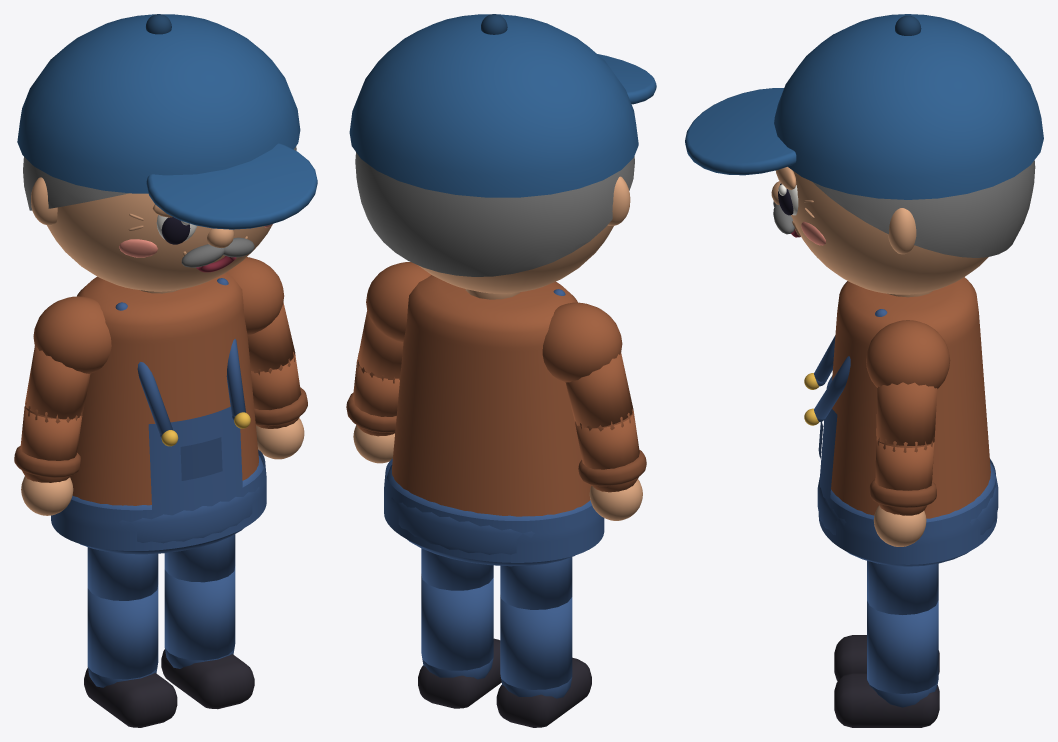
File: ch_vitya.fbx
3 renders of one model, left to right at view 1: azimuth 30°, elevation 25°; view 2: azimuth 150°, elevation 25°; view 3: azimuth 270°, elevation 25°, orthographic. The views are drawn at different scales.
Visible parts, largest first — view 1: ch_vitya; view 2: ch_vitya; view 3: ch_vitya.
Boxes of the visible parts, bbox=[...] form: ch_vitya: bbox=[14, 14, 317, 727]; ch_vitya: bbox=[346, 14, 656, 727]; ch_vitya: bbox=[685, 14, 1043, 727].
Bounding box in the file's own units: 0.7164 × 1.63 × 0.7756.
